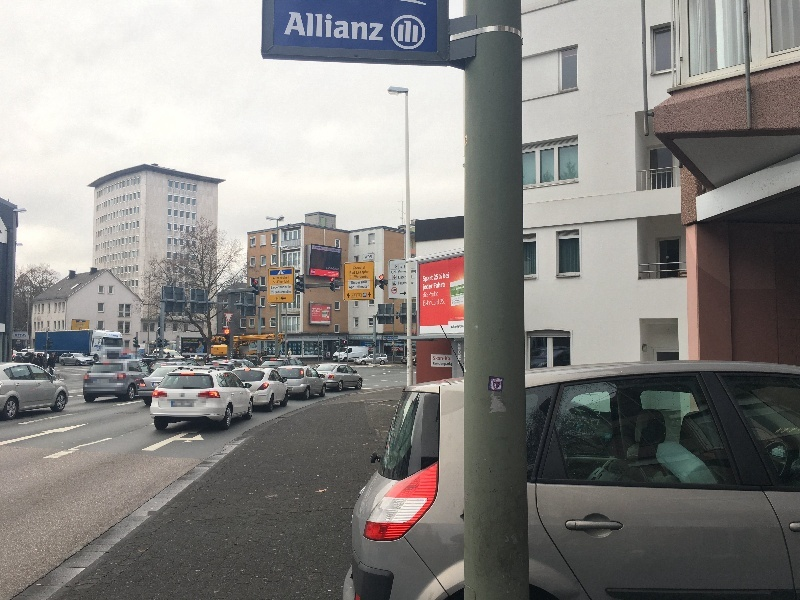text: (305, 11, 320, 43), (321, 11, 336, 43), (337, 11, 352, 43), (353, 11, 368, 43), (369, 11, 384, 43), (290, 11, 304, 43), (458, 343, 464, 365), (434, 282, 448, 289), (434, 274, 448, 280), (353, 285, 368, 290), (273, 285, 288, 290), (433, 356, 448, 361), (423, 284, 432, 292), (423, 276, 432, 283), (433, 362, 448, 366), (401, 265, 416, 269), (353, 266, 368, 270), (424, 299, 432, 306), (353, 281, 367, 285), (274, 280, 288, 284), (274, 276, 288, 280), (451, 325, 464, 329), (275, 290, 288, 294), (17, 333, 27, 338), (440, 299, 448, 305), (353, 276, 369, 279), (423, 293, 432, 298), (357, 271, 368, 275), (433, 299, 439, 306), (433, 291, 439, 298), (322, 248, 336, 251), (386, 344, 400, 347), (97, 344, 103, 351), (451, 289, 464, 292), (369, 337, 382, 340), (353, 337, 365, 340), (443, 272, 448, 279), (456, 286, 464, 290), (214, 348, 224, 351), (358, 294, 368, 297), (353, 295, 368, 297), (305, 337, 320, 339), (369, 350, 384, 352), (385, 337, 399, 339), (327, 267, 336, 270), (451, 317, 464, 319), (339, 250, 352, 252), (323, 337, 336, 339), (401, 282, 407, 286), (392, 271, 400, 274), (276, 298, 288, 300), (113, 334, 119, 338), (429, 291, 432, 298), (454, 302, 464, 304), (411, 281, 416, 285), (411, 270, 416, 274), (310, 337, 320, 339), (401, 276, 407, 279), (401, 271, 407, 274), (327, 316, 336, 318), (327, 337, 336, 339), (295, 337, 304, 339), (184, 349, 192, 351), (328, 272, 336, 274), (312, 310, 320, 312), (312, 308, 320, 310), (344, 337, 352, 339), (76, 322, 80, 326), (155, 383, 160, 386), (411, 276, 416, 279), (331, 337, 336, 340), (194, 341, 208, 342), (194, 339, 208, 340), (451, 319, 464, 320), (234, 337, 240, 339), (458, 301, 464, 303), (324, 275, 336, 276), (412, 344, 416, 347), (348, 337, 352, 340), (369, 347, 373, 350), (445, 357, 448, 361), (449, 357, 452, 361), (453, 301, 464, 302), (350, 285, 352, 290), (326, 275, 336, 276), (289, 285, 291, 290), (315, 312, 320, 314), (14, 333, 16, 338), (289, 388, 292, 391), (365, 256, 368, 259), (369, 256, 372, 259), (327, 313, 336, 314), (401, 348, 404, 351), (401, 344, 404, 347), (365, 337, 368, 340), (365, 341, 368, 344), (369, 341, 372, 344), (184, 341, 192, 342), (184, 340, 192, 341), (449, 362, 451, 366), (456, 302, 464, 303), (350, 271, 352, 275), (353, 271, 355, 275), (316, 247, 320, 249), (332, 275, 336, 277), (332, 274, 336, 276), (289, 290, 291, 294), (312, 315, 320, 316), (312, 313, 320, 314), (316, 337, 320, 339), (110, 334, 112, 338), (81, 322, 83, 326), (457, 300, 464, 301), (449, 272, 450, 279), (329, 275, 336, 276), (186, 350, 192, 351), (350, 276, 352, 279), (334, 268, 336, 271), (337, 268, 339, 271), (317, 308, 320, 310), (317, 337, 320, 339), (301, 337, 304, 339), (369, 345, 372, 347), (187, 340, 192, 341), (369, 285, 370, 290), (271, 285, 272, 290), (289, 337, 294, 338), (443, 359, 448, 360), (399, 282, 400, 286), (351, 281, 352, 285), (337, 250, 339, 252), (337, 275, 339, 277), (337, 274, 339, 276), (332, 273, 336, 274), (321, 337, 323, 339), (189, 341, 192, 342), (461, 301, 464, 302), (399, 276, 400, 279), (317, 311, 320, 312), (399, 348, 400, 351), (369, 344, 372, 345), (337, 273, 339, 274), (319, 315, 320, 317), (321, 308, 322, 310), (367, 345, 368, 347), (366, 344, 368, 345), (191, 340, 192, 341), (193, 340, 194, 341), (287, 337, 288, 338)
